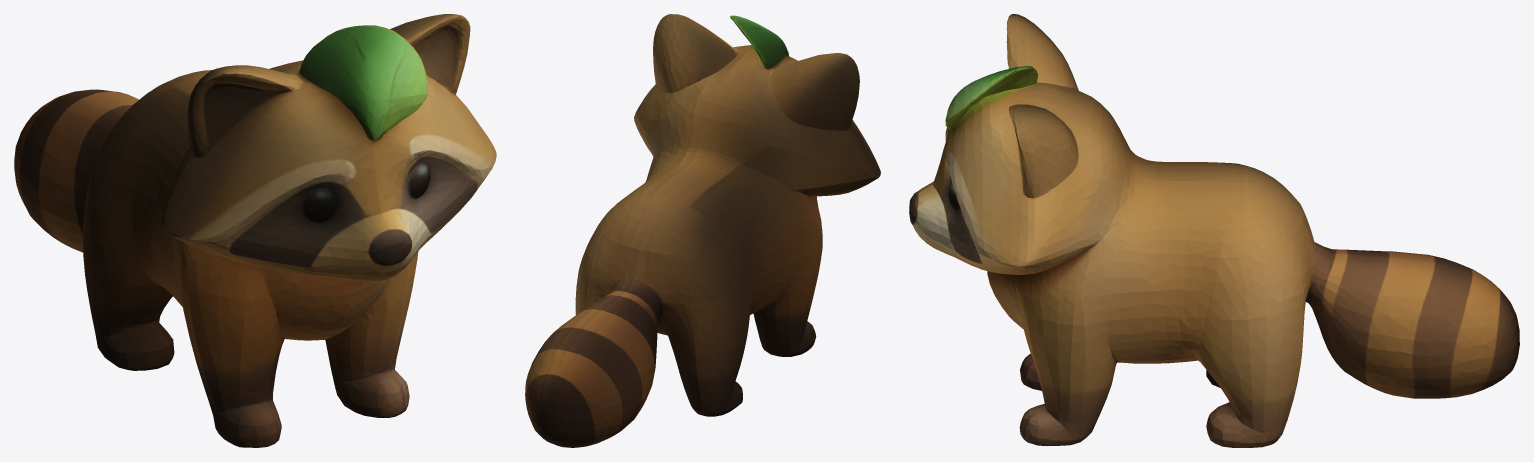
File: raccoon.glb
The picture shows the model from 3 angles, left to right: view 1: azimuth 30°, elevation 25°; view 2: azimuth 150°, elevation 25°; view 3: azimuth 270°, elevation 25°; orthographic projection. The views are drawn at different scales.
Parts seen in each view (by area): view 1: world; view 2: world; view 3: world.
Boxes of the visible parts, left/top/right/bottom form: world: left=14, top=14, right=496, bottom=447; world: left=525, top=14, right=880, bottom=447; world: left=909, top=14, right=1519, bottom=447.
Size of the model in its own units: 0.5479 by 0.6393 by 1.
1 material, 1 textured.
